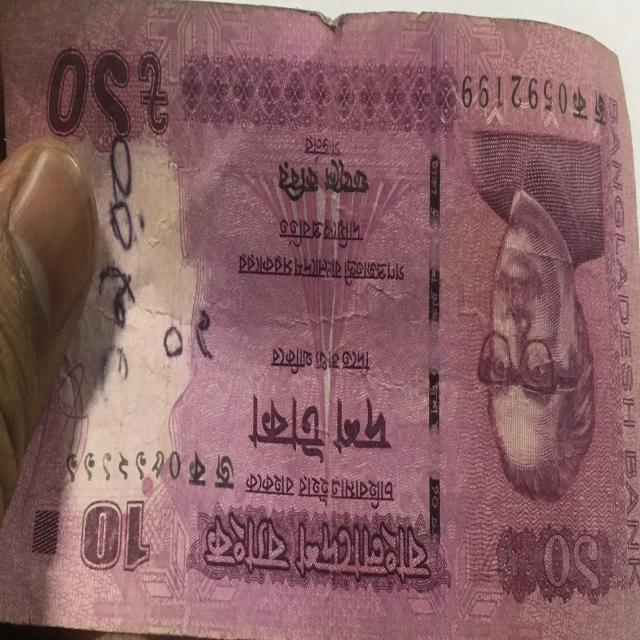Taka: (7, 10, 639, 620)
